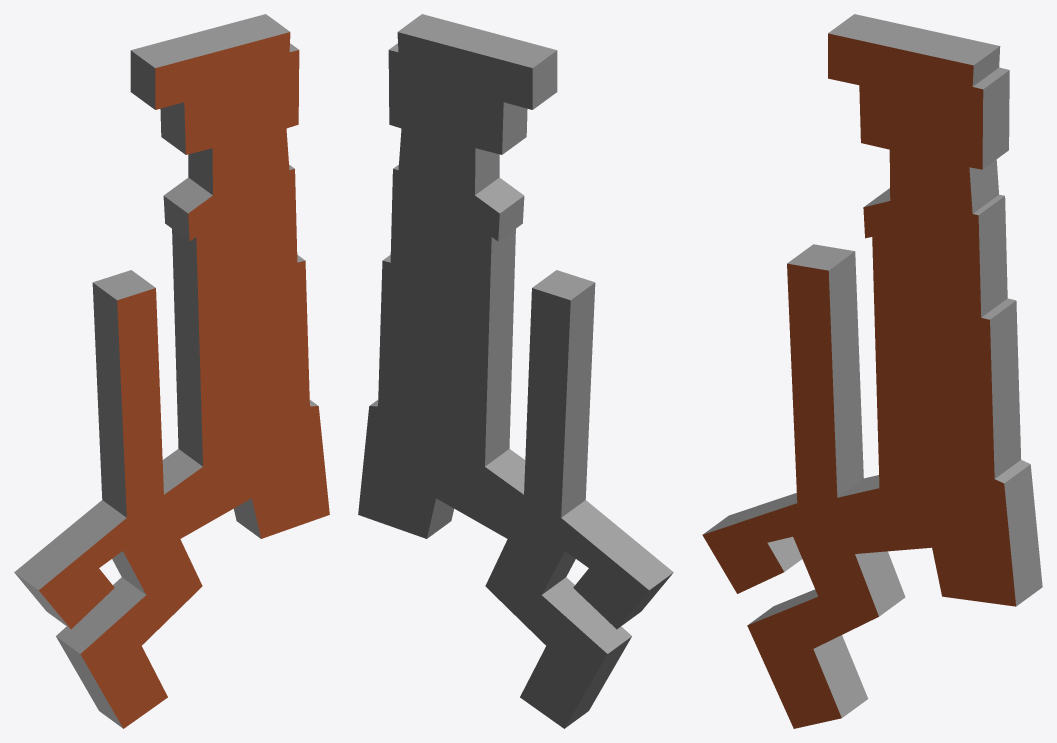
The model's file is construction_4472_assumed_A_Casa_h6m.obj.
3 renders of one model, left to right at view 1: azimuth 30°, elevation 25°; view 2: azimuth 150°, elevation 25°; view 3: azimuth 330°, elevation 25°, orthographic. The views are drawn at different scales.
Parts seen in each view (by area): view 1: construction_4472_assumed_A_Casa; view 2: construction_4472_assumed_A_Casa; view 3: construction_4472_assumed_A_Casa.
Part boxes in pixels (x1,y1,x2,y2): construction_4472_assumed_A_Casa: [14, 14, 329, 728]; construction_4472_assumed_A_Casa: [358, 14, 673, 728]; construction_4472_assumed_A_Casa: [702, 14, 1042, 728].
Size of the model in its own units: 41.02 by 88.35 by 6.
